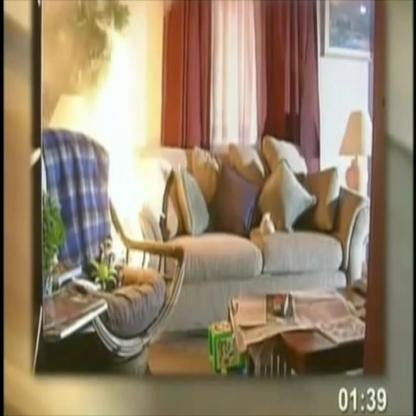fire: (82, 12, 152, 264)
